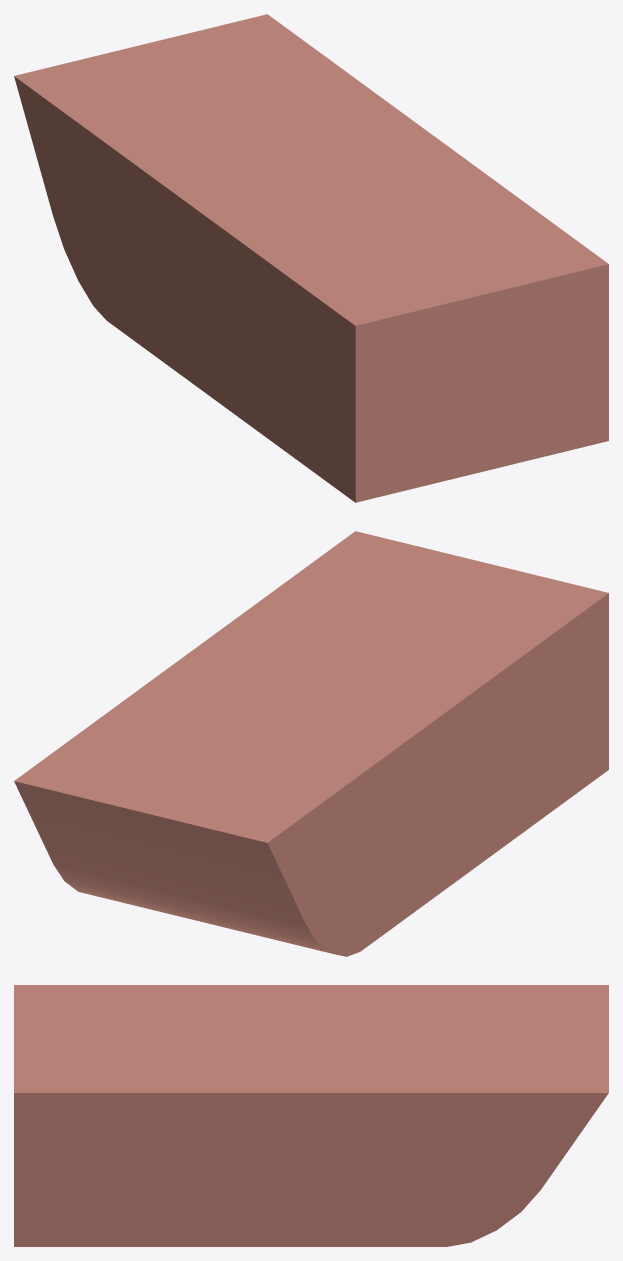
Rendered from BasicTerrace3m.fbx.
3 views of the same model, one above another, from view 1: azimuth 30°, elevation 25°; view 2: azimuth 150°, elevation 25°; view 3: azimuth 270°, elevation 25° (orthographic). The views are drawn at different scales.
Parts seen in each view (by area): view 1: BasicTerrace3m.002; view 2: BasicTerrace3m.002; view 3: BasicTerrace3m.002.
Part boxes in pixels (<box>): BasicTerrace3m.002: <box>14,14,608,502</box>; BasicTerrace3m.002: <box>14,531,608,956</box>; BasicTerrace3m.002: <box>14,985,608,1246</box>.
Size of the model in its own units: 300 by 200 by 700.
